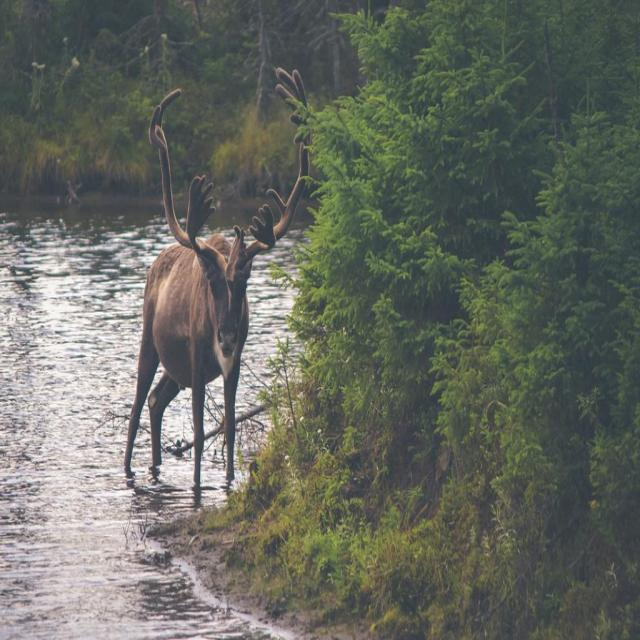Deer: (125, 62, 307, 491)
